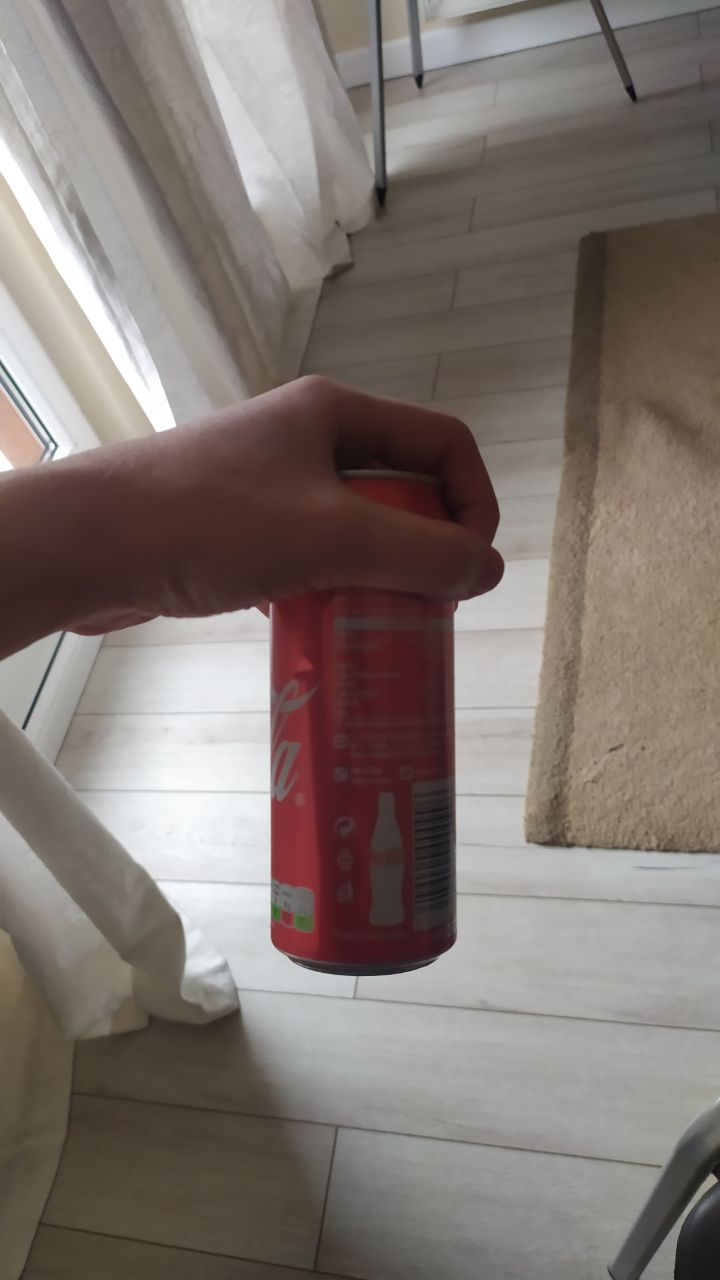Can: (257, 465, 465, 975)
